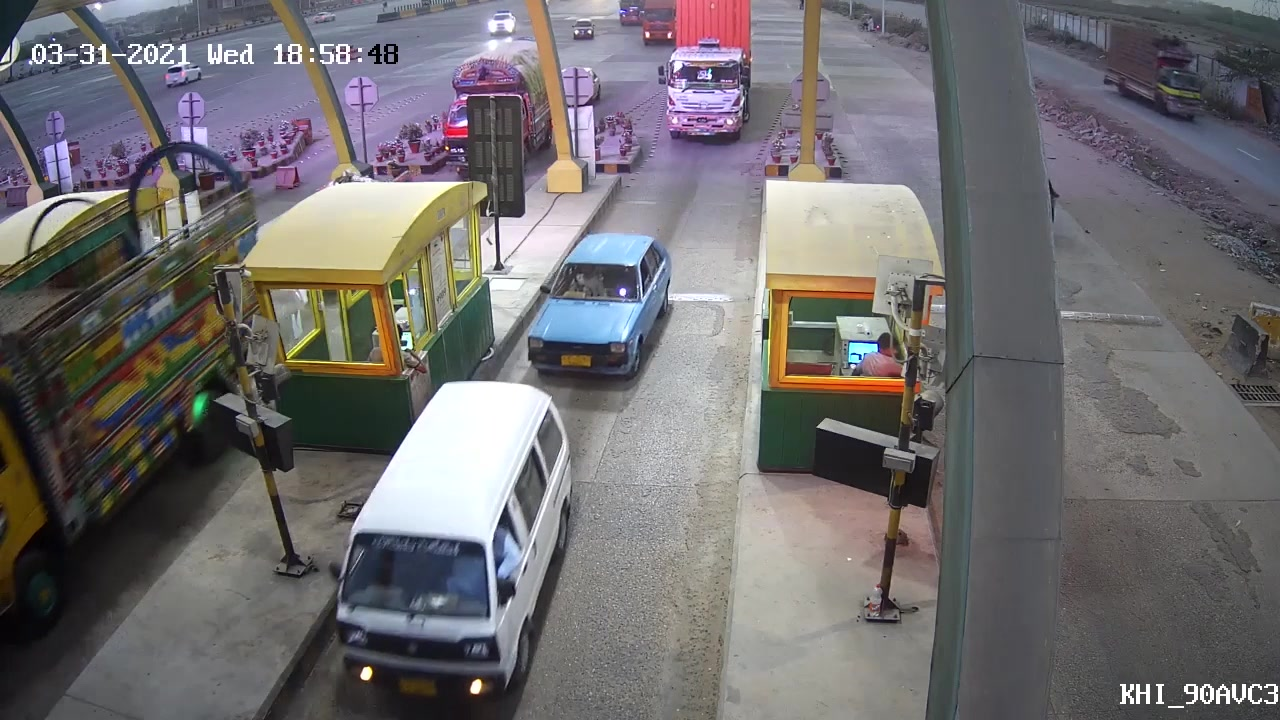F1: (527, 232, 687, 382)
F2: (328, 375, 576, 706)
